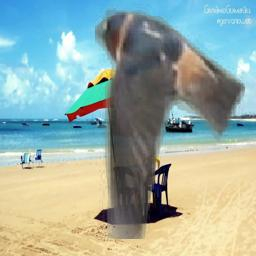Swallow: (95, 1, 245, 240)
